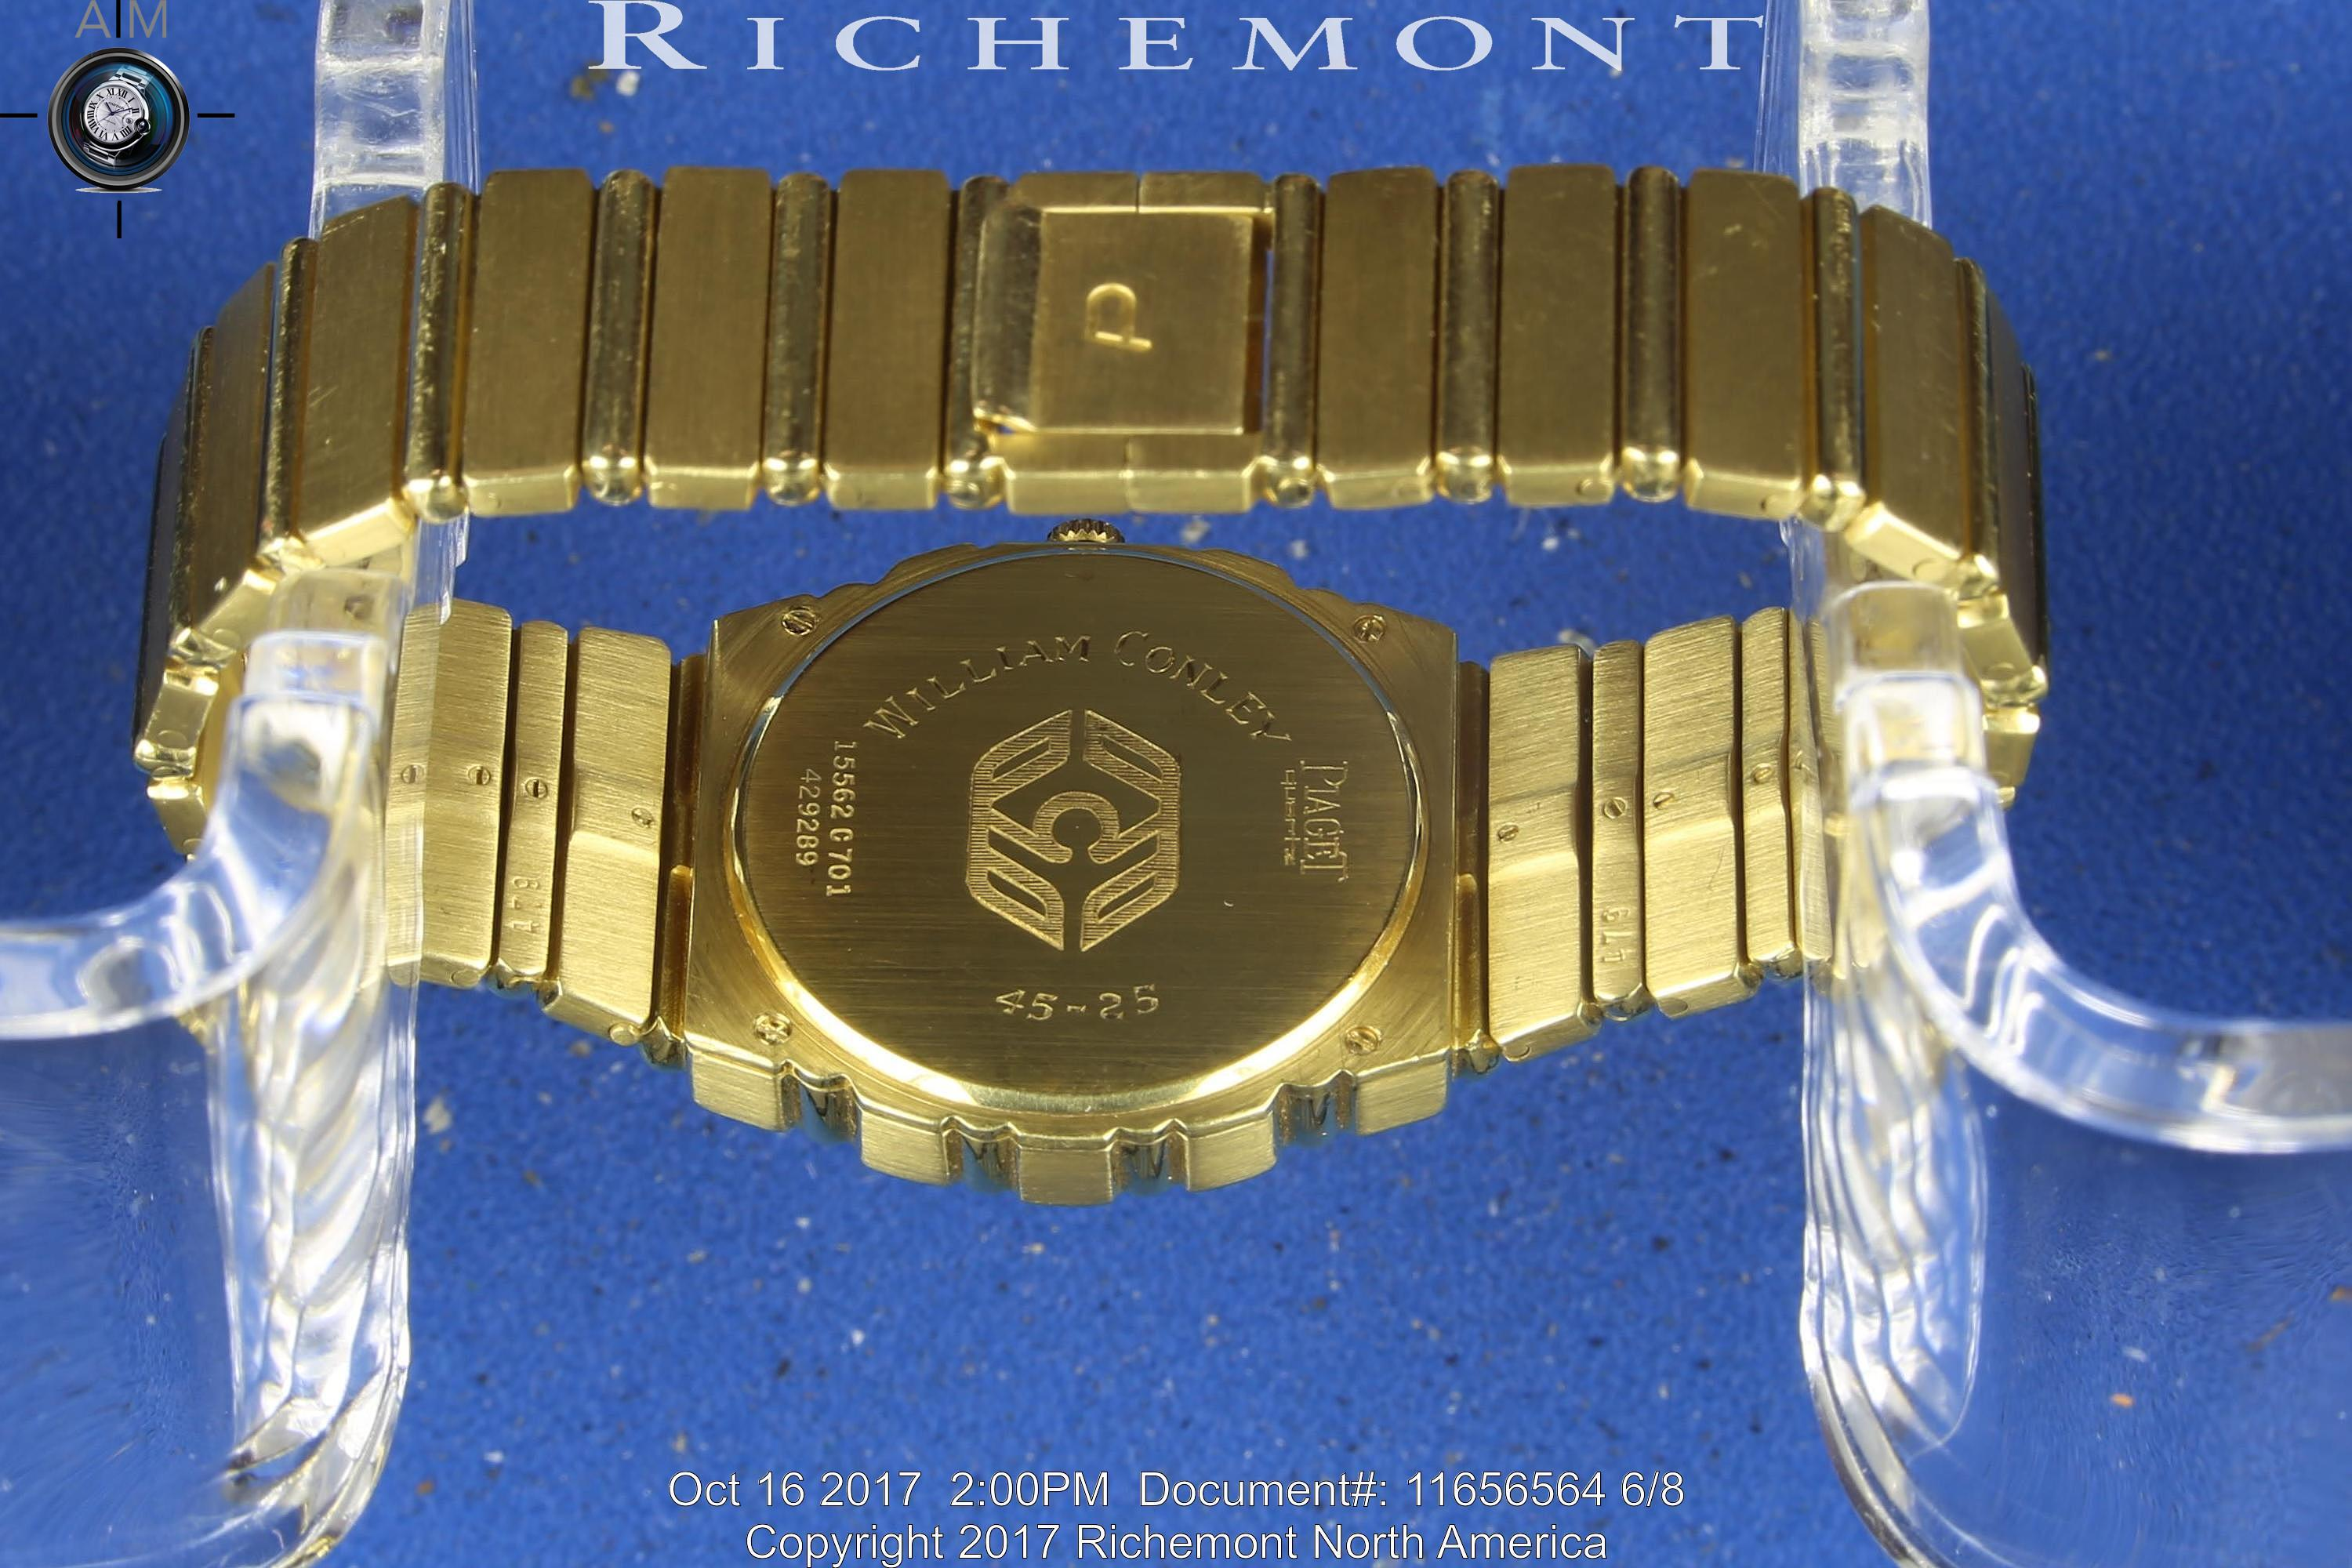Watch BackCase: (691, 516, 1473, 1202)
